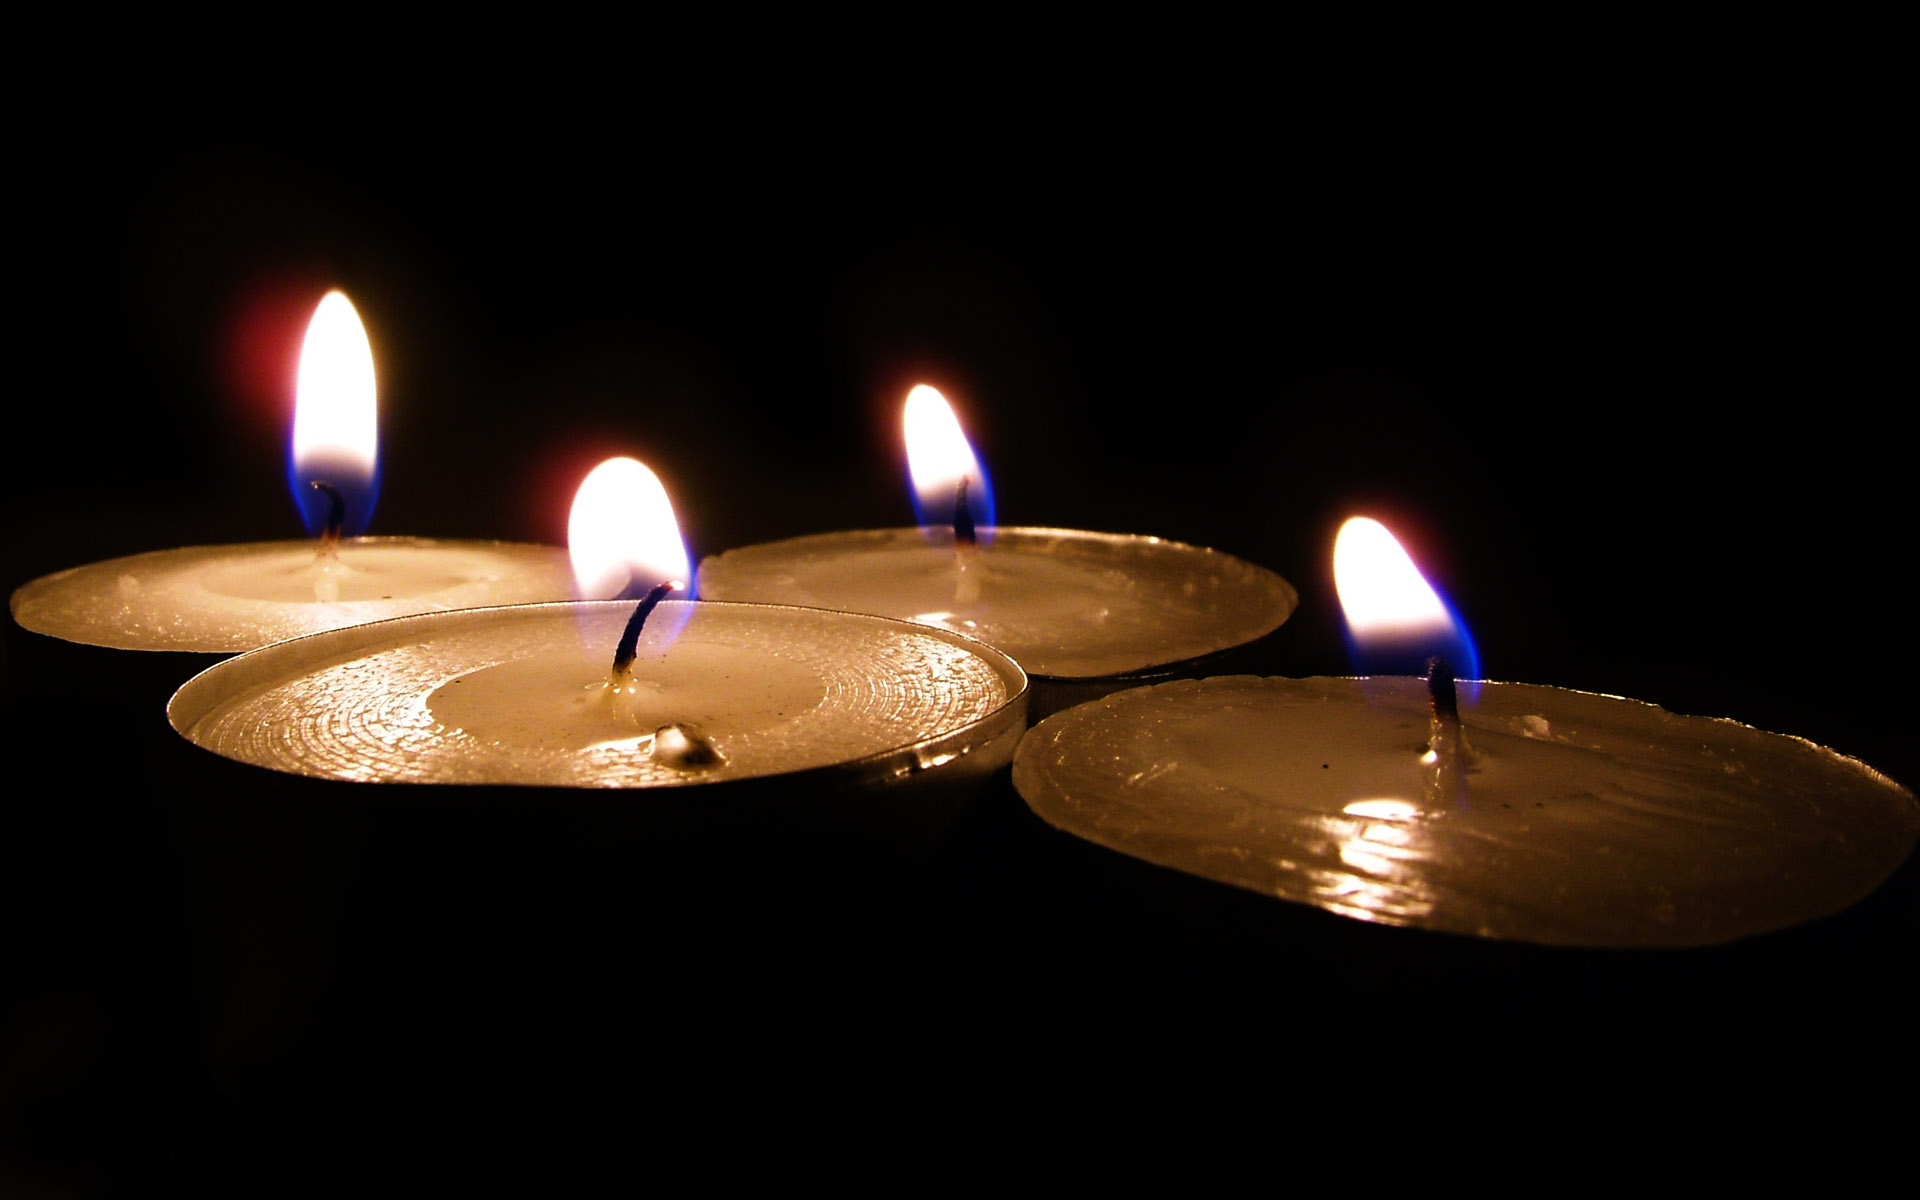Fire: (556, 429, 699, 639), (1327, 500, 1478, 701), (288, 279, 386, 525), (883, 380, 992, 528)
